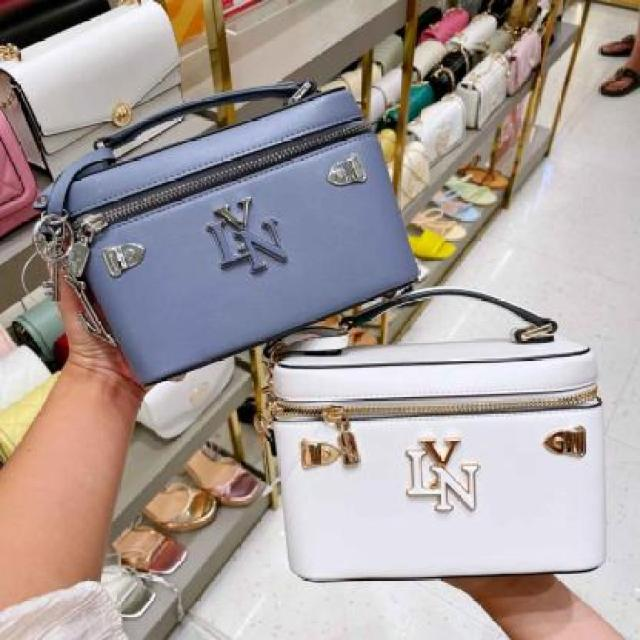Bag: (15, 70, 447, 388), (259, 286, 618, 605), (0, 0, 207, 178)
